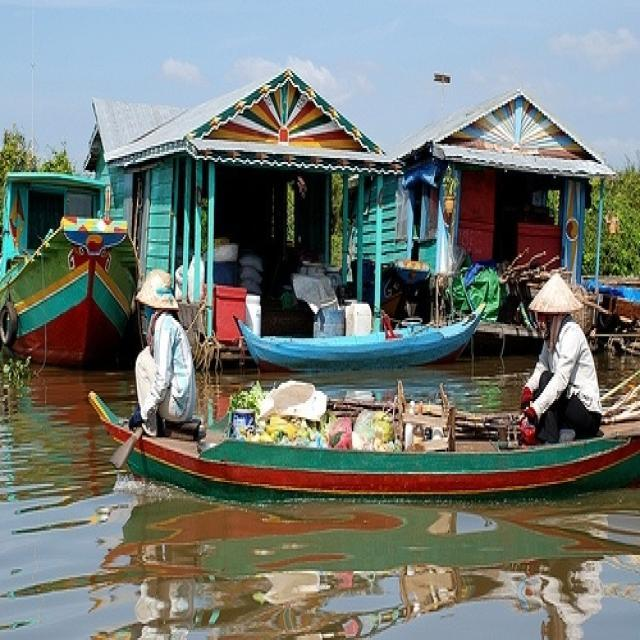Hyacinth: (0, 343, 41, 396)
boat: (81, 385, 640, 504), (8, 166, 142, 374), (224, 300, 510, 363)
